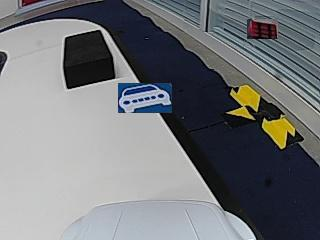block: (63, 30, 115, 89)
